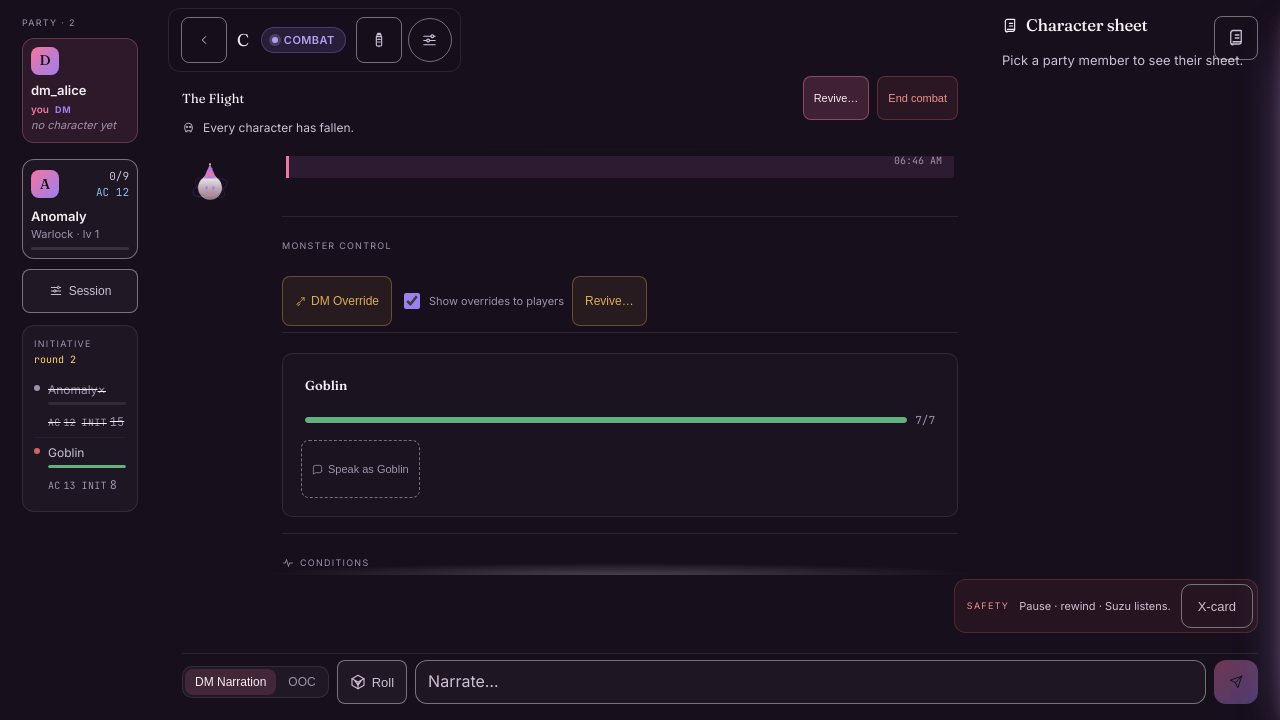
Test: P1 the held End combat: one request, exactly {username, outcome: tpk}, no chooser, the party-has-fallen line › a failed /end keeps the confirm open with the error, retryable; the retry sends again and the fight ends
The width and height of the screenshot is (1280, 720).
(page scrolled)
Expected: the text "Every character has fallen." is shown, [182, 120, 354, 135]
Click the button "End combat" at (918, 98), box [877, 76, 958, 120]
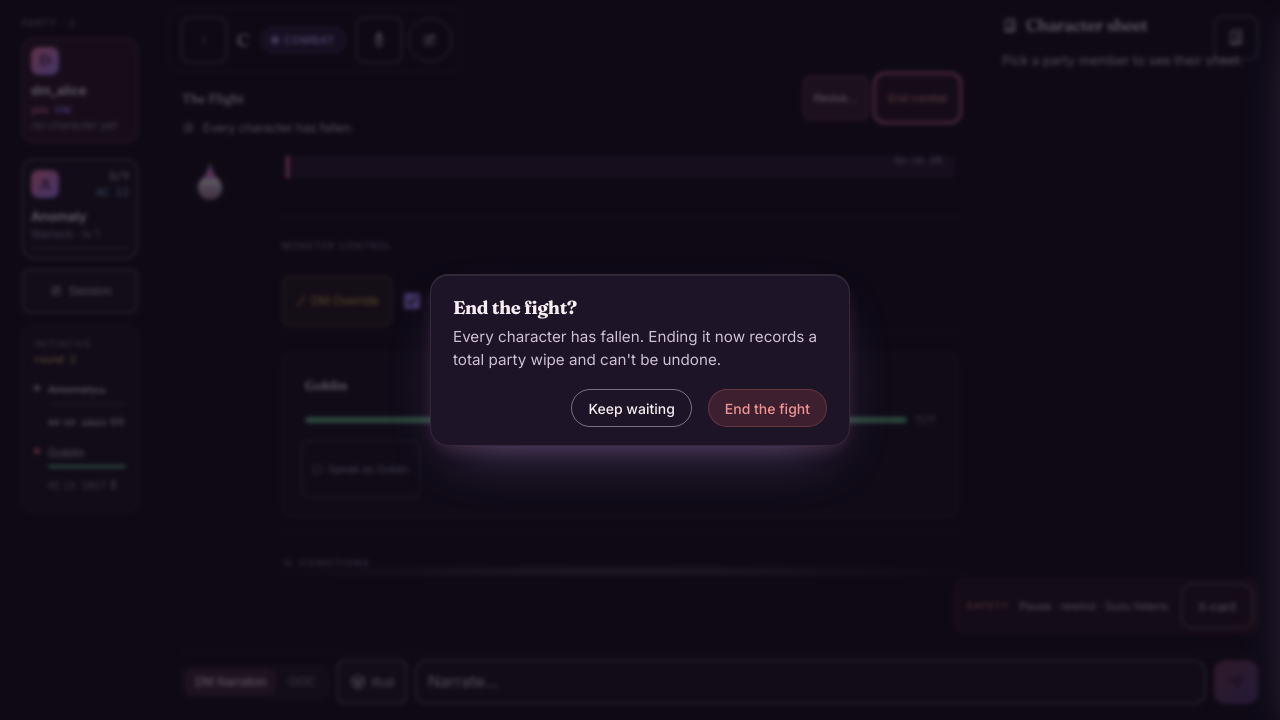
Click the button "End the fight" at (767, 408), box [708, 389, 827, 427]
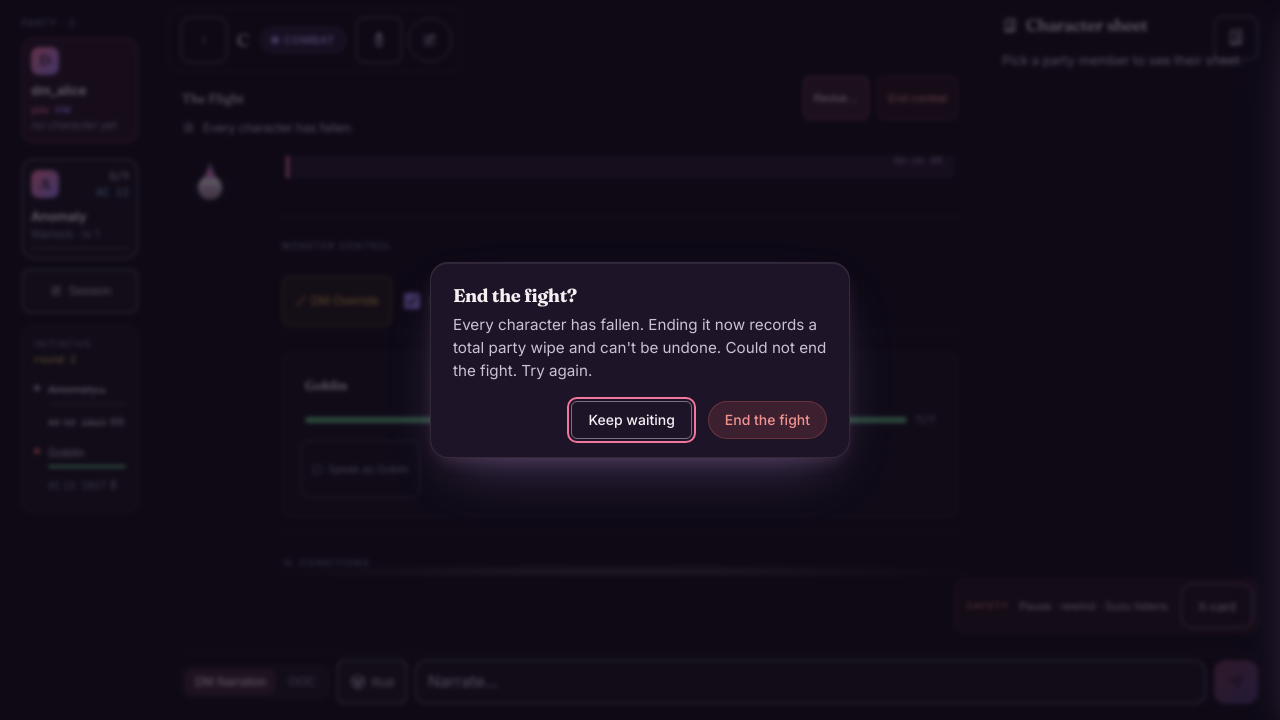
Expected: the text "Every character has fallen." is shown, [182, 120, 354, 135]
Expected: the button "End the fight" is enabled
Expected: the message reads "Could not end the fight. Try again.", [453, 338, 826, 380]
Click the button "End the fight" at (767, 420), box [708, 401, 827, 439]
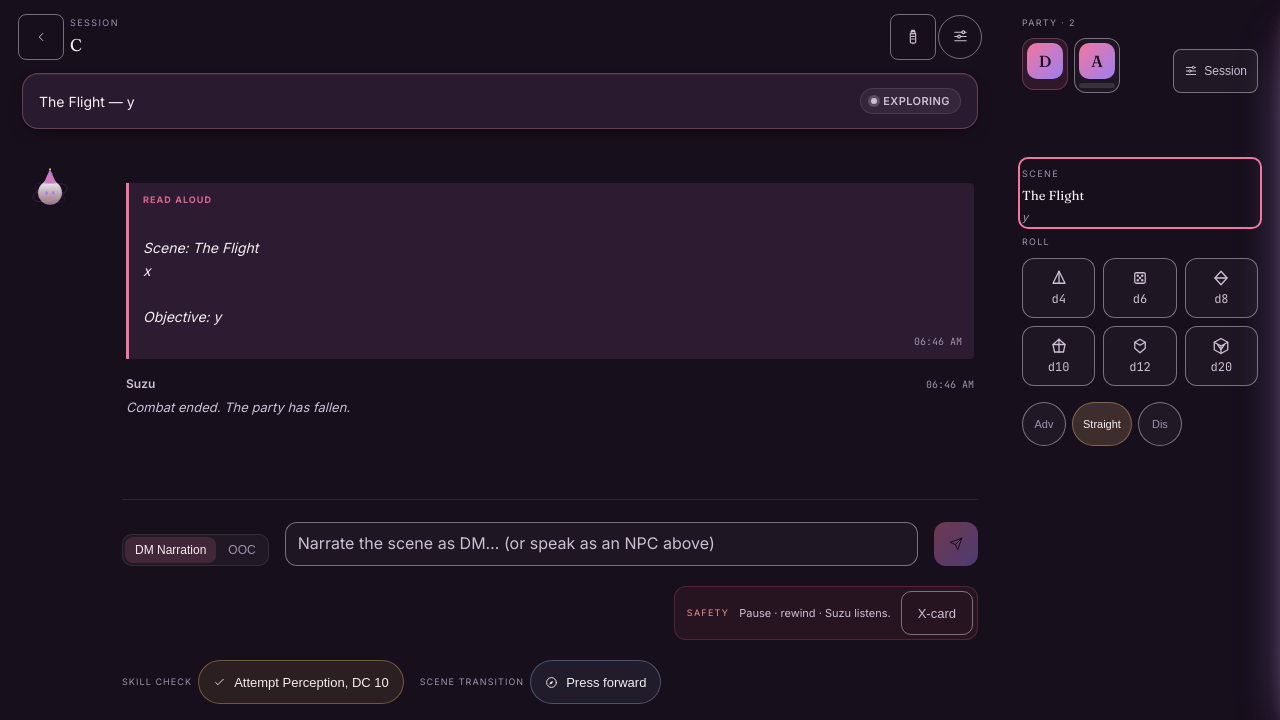
Expected: the heading "End the fight?" is gone
Expected: the text "Combat ended. The party has fallen." is shown, [126, 399, 350, 415]
